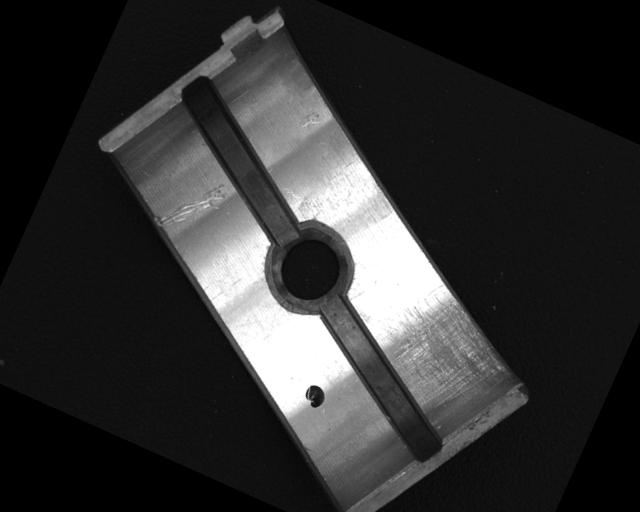blot: (300, 382, 329, 411)
bruise: (298, 107, 325, 136)
gap: (140, 69, 339, 247), (284, 293, 480, 464)
hole: (251, 209, 366, 325)
nick: (151, 163, 232, 248)
scratch: (337, 254, 533, 434)
